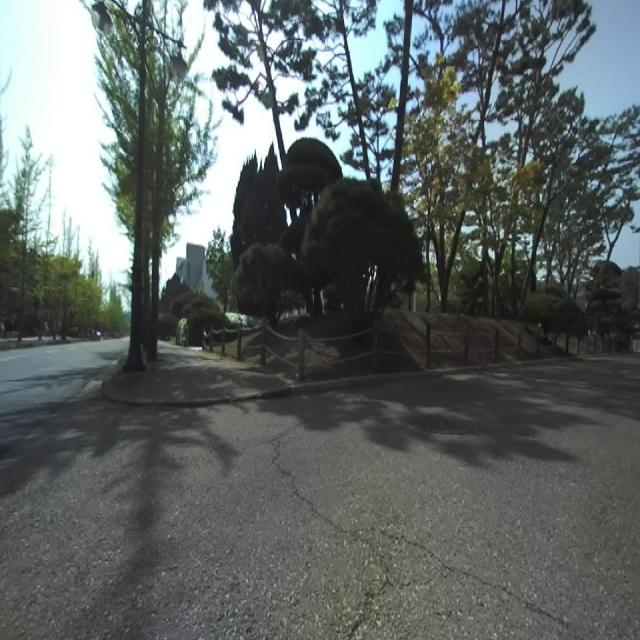sidewalk: (79, 355, 640, 640), (102, 340, 286, 402)
